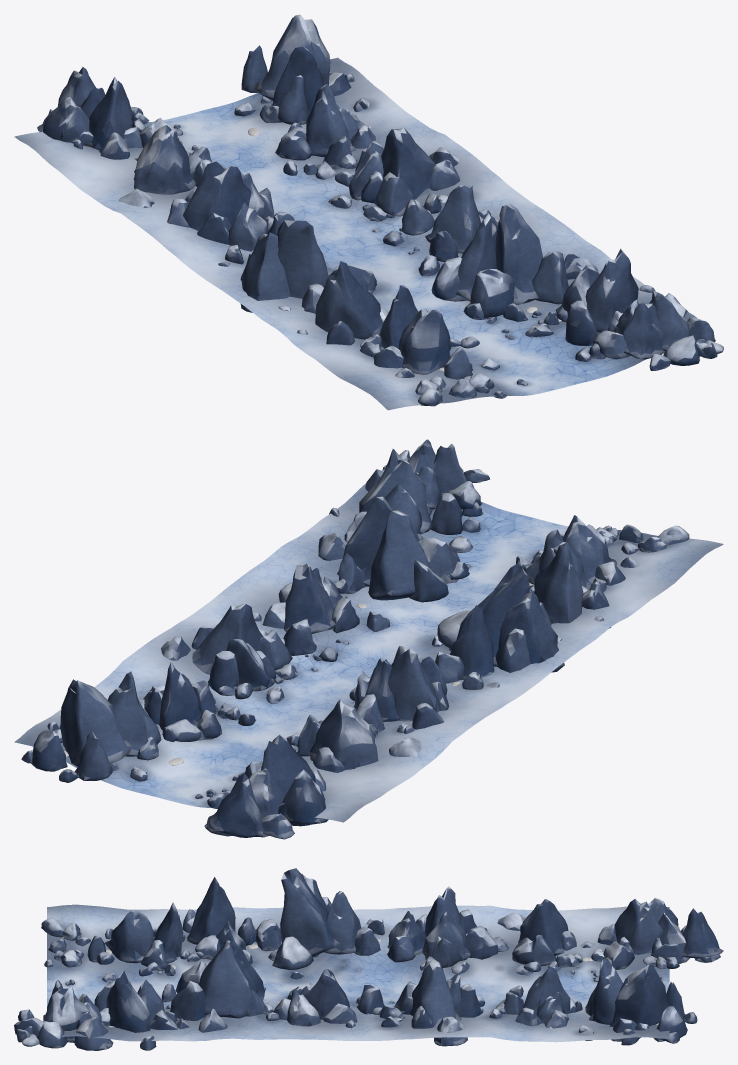
The model's file is v1_snow.fbx.
3 renders of one model, top to bottom at view 1: azimuth 30°, elevation 25°; view 2: azimuth 150°, elevation 25°; view 3: azimuth 270°, elevation 25°, orthographic. The views are drawn at different scales.
Visible parts, largest first — view 1: Terrain_Ground.011, Cliffs_East.011, Cliffs_West.011, Boulders_Medium.011; view 2: Terrain_Ground.011, Cliffs_East.011, Cliffs_West.011, Boulders_Medium.011; view 3: Terrain_Ground.011, Cliffs_East.011, Cliffs_West.011, Boulders_Medium.011.
Part boxes in pixels (bbox=[...]): Terrain_Ground.011: bbox=[14, 57, 697, 410]; Cliffs_East.011: bbox=[241, 14, 723, 370]; Cliffs_West.011: bbox=[37, 67, 479, 388]; Boulders_Medium.011: bbox=[185, 72, 591, 406]; Terrain_Ground.011: bbox=[14, 469, 723, 822]; Cliffs_East.011: bbox=[21, 439, 489, 782]; Cliffs_West.011: bbox=[204, 515, 639, 839]; Boulders_Medium.011: bbox=[56, 510, 689, 781]; Terrain_Ground.011: bbox=[47, 904, 669, 1042]; Cliffs_East.011: bbox=[14, 940, 697, 1050]; Cliffs_West.011: bbox=[75, 868, 723, 976]; Boulders_Medium.011: bbox=[41, 917, 648, 1032].
Bounding box in the file's own units: 2447 × 667 × 5473.
